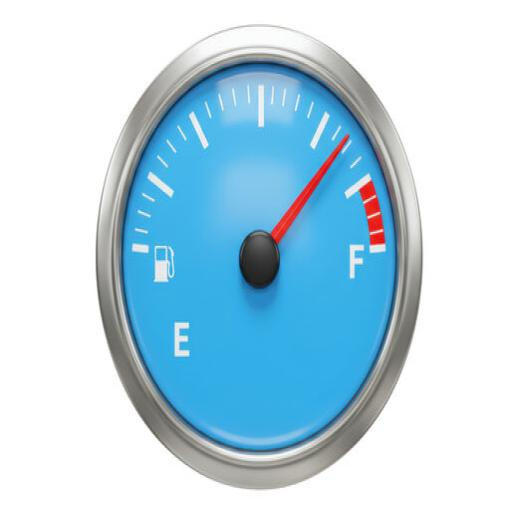empty: (169, 318, 199, 364)
fuel_icon: (152, 241, 182, 291)
full: (344, 238, 368, 281)
guage_area: (78, 16, 442, 498)
needle_center: (235, 216, 289, 293)
needle_tip: (338, 129, 352, 150)
